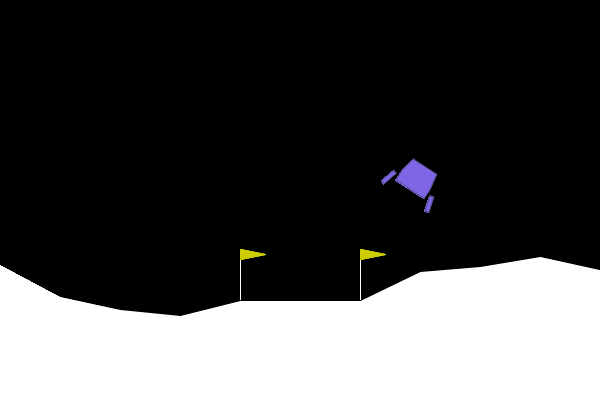lander: (379, 149, 451, 215)
